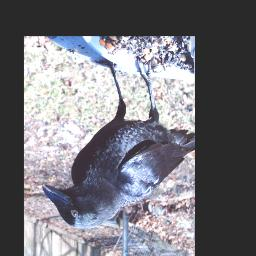Crow: (42, 56, 195, 229)
